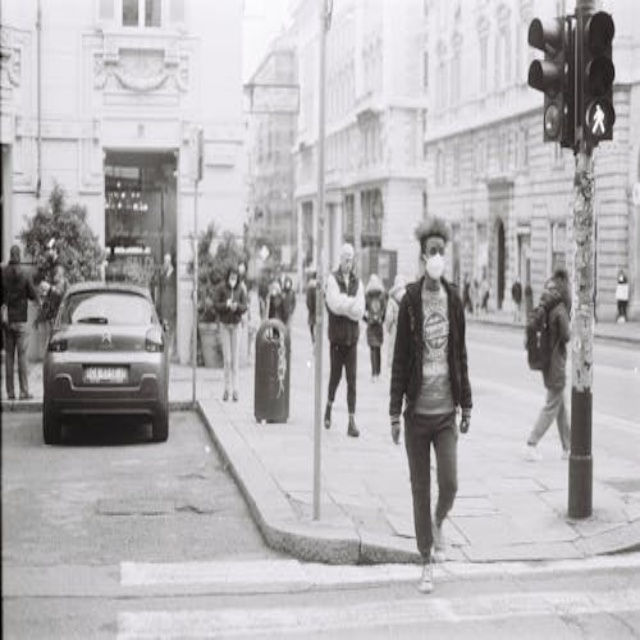Mascara: (422, 245, 444, 278)
